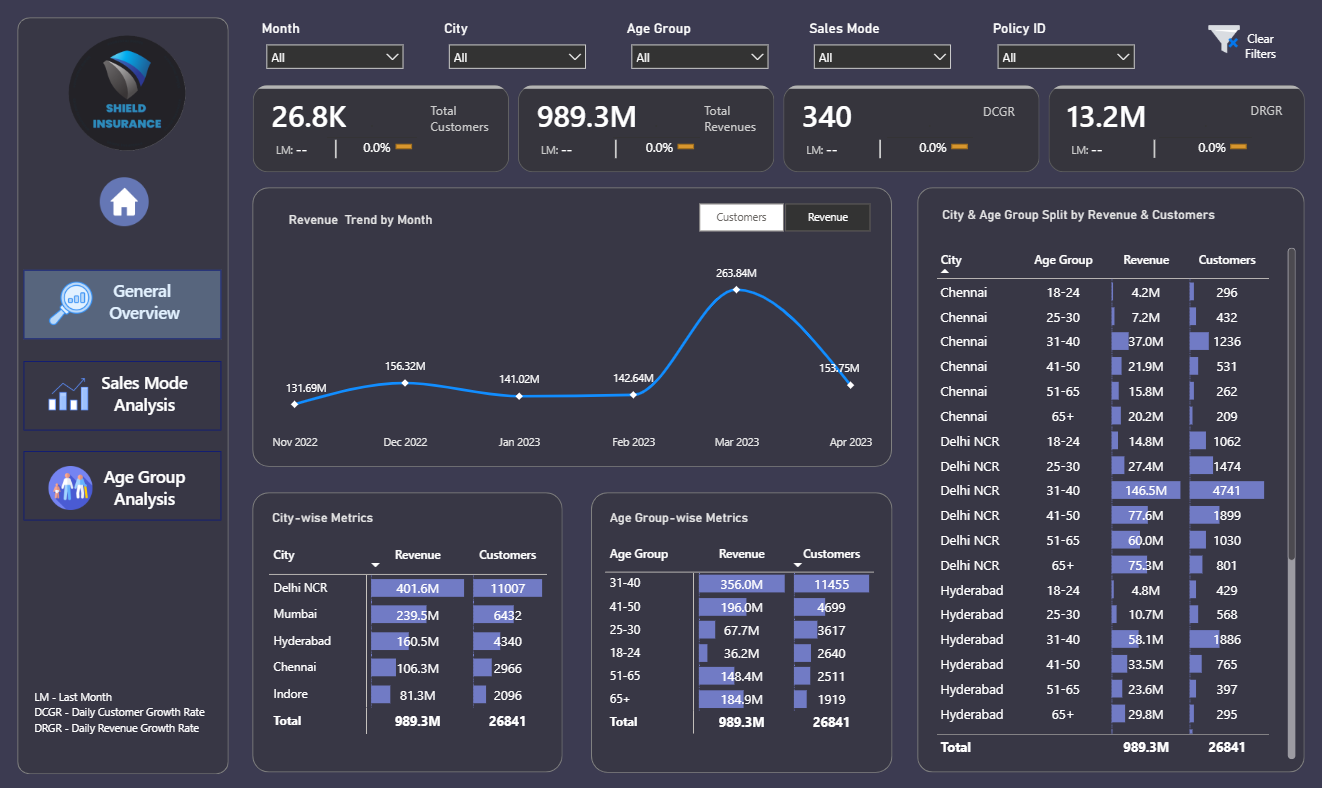

Layout of this report page (visuals, bound fields, positions):
{"tool":"powerbi","page":{"name":"Overview Analysis ","canvas":[1500,900],"ordinal":1},"visuals":[{"type":"shape","box":[24.6,24.6,238.5,853.8],"z":0},{"type":"cardVisual","fields":{"Data":["Key Measures.Total Customers","Key Measures.Total Revenue","Key Measures.Daily Customer Growth","Key Measures.Daily Revenue Growth"]},"box":[285.5,95.4,1200,108.9],"z":0,"group":"g1"},{"type":"shape","box":[289.2,215.4,721.5,315.4],"z":0,"group":"g2"},{"type":"shape","box":[1038.5,215.4,436.9,660],"z":0,"group":"g3"},{"type":"shape","box":[670.8,560,340,316.5],"z":0,"group":"g5"},{"type":"group","id":"g1","title":"Group 1","box":[285.5,95.4,1214.5,108.9],"z":1000,"group":"g6"},{"type":"textbox","box":[485.8,114,90,60],"z":1000,"group":"g1"},{"type":"group","id":"g2","title":"Group 2","box":[289.2,215.4,721.5,315.4],"z":1000},{"type":"lineChart","fields":{"Y":["Key Measures.Total Revenue"],"Category":["dim_date.date.Variation.Date Hierarchy.Year","dim_date.date.Variation.Date Hierarchy.Month"]},"box":[305.9,282.3,688.1,239.8],"z":1000,"group":"g2"},{"type":"shape","box":[289.2,560,350,316],"z":1000,"group":"g4"},{"type":"textbox","box":[794.9,114,90,60],"z":2000,"group":"g1"},{"type":"group","id":"g3","title":"Group 3","box":[1038.5,215.4,436.9,660],"z":2000},{"type":"pivotTable","fields":{"Rows":["dim_customer.city"],"Values":["Key Measures.Total Revenue","Key Measures.Total Customers"]},"box":[302.7,611.4,325,265],"z":2000,"group":"g4"},{"type":"pivotTable","fields":{"Rows":["dim_customer.Age Group"],"Values":["Key Measures.Total Revenue","Key Measures.Total Customers"]},"box":[682.7,611.5,315.7,265.4],"z":2000,"group":"g5"},{"type":"image","box":[60,34.1,174.4,149.9],"z":3000},{"type":"textbox","box":[1108.5,114.5,89.9,60],"z":3000,"group":"g1"},{"type":"textbox","box":[1410,114,90,60],"z":4000,"group":"g1"},{"type":"group","id":"g4","title":"Group 4","box":[289.2,560,350,316.4],"z":4000},{"type":"tableEx","fields":{"Values":["dim_customer.city","dim_customer.Age Group","Key Measures.Total Revenue","Key Measures.Total Customers"]},"box":[1053.6,279.1,416.1,586.8],"z":5000,"group":"g3"},{"type":"group","id":"g5","title":"Group 5","box":[670.8,560,340,316.9],"z":5000},{"type":"slicer","title":"Month","fields":{"Values":["dim_date.mmm_yy"]},"box":[294.3,27,175,60],"z":6000},{"type":"slicer","fields":{"Values":["Trend Parameter.Trend Parameter"]},"box":[767.7,227,243.1,45.1],"z":6000,"group":"g2"},{"type":"textbox","box":[312.3,573.4,279.6,44.1],"z":6000,"group":"g4"},{"type":"textbox","box":[692.2,574.1,264.8,42.2],"z":6000,"group":"g5"},{"type":"slicer","title":"Policy ID","fields":{"Values":["fact_premiums.policy_id"]},"box":[1118.7,27.3,174.4,60],"z":7000},{"type":"textbox","box":[1066.1,232.4,356.6,43.2],"z":7001,"group":"g3"},{"type":"card","fields":{"Values":["Key Measures.Dynamic Trend Title"]},"box":[296.7,233.5,235.3,39.2],"z":7001,"group":"g2"},{"type":"slicer","title":"City","fields":{"Values":["dim_customer.city"]},"box":[500.4,27,175,60],"z":8000},{"type":"slicer","title":"Age Group","fields":{"Values":["dim_customer.Age Group"]},"box":[706.5,27,175,60],"z":9000},{"type":"slicer","title":"Sales Mode","fields":{"Values":["fact_premiums.sales_mode"]},"box":[912.6,27,175,60],"z":10000},{"type":"actionButton","box":[1390.8,24.6,69.2,64.6],"z":11000},{"type":"group","id":"g6","title":"Group 6","box":[285.5,95.4,1214.5,108.9],"z":12000},{"type":"image","box":[1358.5,24.6,52.3,47.7],"z":13000},{"type":"tableEx","fields":{"Values":["Key Measures.Growth % TC"]},"box":[367.9,128,125,60],"z":13000,"group":"g6"},{"type":"shape","box":[333.8,161.8,101,21.1],"z":14000,"group":"g6"},{"type":"group","id":"g7","title":"Group 7","box":[58.8,314.7,188.7,279.6],"z":14000},{"type":"tableEx","fields":{"Values":["Key Measures.Growth % TR"]},"box":[689.5,128.1,125.4,60],"z":15000,"group":"g6"},{"type":"shape","box":[31.7,308.7,223.2,78.4],"z":15000},{"type":"textbox","box":[87.5,314.7,160,70],"z":15000,"group":"g7"},{"type":"tableEx","fields":{"Values":["Key Measures.Growth % DCG"]},"box":[998.9,128.1,124,60],"z":16000,"group":"g6"},{"type":"shape","box":[31.7,411.2,223.2,78.4],"z":16000},{"type":"textbox","box":[87.5,419.5,160,70],"z":16000,"group":"g7"},{"type":"tableEx","fields":{"Values":["Key Measures.Growth % DRG"]},"box":[1306.8,128.1,125.4,60],"z":17000,"group":"g6"},{"type":"shape","box":[31.7,513.8,223.2,78.4],"z":17000},{"type":"textbox","box":[87.5,524.3,160,70],"z":17000,"group":"g7"},{"type":"shape","box":[648.9,161.8,101,21.1],"z":18000,"group":"g6"},{"type":"image","box":[58.8,322.2,50,50],"z":18000,"group":"g7"},{"type":"textbox","box":[37.7,775.1,218.7,73.9],"z":18000},{"type":"shape","box":[947.5,161.8,99.5,21.1],"z":19000,"group":"g6"},{"type":"image","box":[117.6,205,55,55],"z":19000},{"type":"image","box":[58.8,530.4,49.8,49.8],"z":19000,"group":"g7"},{"type":"shape","box":[1256.4,162.1,100.8,20.4],"z":20000,"group":"g6"},{"type":"image","box":[58.8,424.8,45,50],"z":20000,"group":"g7"}]}

Visuals, with their boxes in screenshot pixels (x1, y1, x2, y2), scaled from the page's 1500x900 canvas onto the 1322x788 screenshot:
shape: box(22, 22, 232, 769)
cardVisual - Key Measures.Total Customers x Key Measures.Total Revenue: box(252, 84, 1309, 179)
shape: box(255, 189, 891, 465)
shape: box(915, 189, 1300, 766)
shape: box(591, 490, 891, 767)
"Group 1" group: box(252, 84, 1321, 179)
textbox: box(428, 100, 507, 152)
"Group 2" group: box(255, 189, 891, 465)
lineChart - Key Measures.Total Revenue x dim_date.date.Variation.Date Hierarchy.Year: box(270, 247, 876, 457)
shape: box(255, 490, 563, 767)
textbox: box(701, 100, 780, 152)
"Group 3" group: box(915, 189, 1300, 766)
pivotTable - dim_customer.city x Key Measures.Total Revenue: box(267, 535, 553, 767)
pivotTable - dim_customer.Age Group x Key Measures.Total Revenue: box(602, 535, 880, 768)
image: box(53, 30, 207, 161)
textbox: box(977, 100, 1056, 153)
textbox: box(1243, 100, 1321, 152)
"Group 4" group: box(255, 490, 563, 767)
tableEx - dim_customer.city x dim_customer.Age Group: box(929, 244, 1295, 758)
"Group 5" group: box(591, 490, 891, 768)
"Month" slicer: box(259, 24, 414, 76)
slicer - Trend Parameter.Trend Parameter: box(677, 199, 891, 238)
textbox: box(275, 502, 522, 541)
textbox: box(610, 503, 843, 540)
"Policy ID" slicer: box(986, 24, 1140, 76)
textbox: box(940, 203, 1254, 241)
card - Key Measures.Dynamic Trend Title: box(261, 204, 469, 239)
"City" slicer: box(441, 24, 595, 76)
"Age Group" slicer: box(623, 24, 777, 76)
"Sales Mode" slicer: box(804, 24, 959, 76)
actionButton: box(1226, 22, 1287, 78)
"Group 6" group: box(252, 84, 1321, 179)
image: box(1197, 22, 1243, 63)
tableEx - Key Measures.Growth % TC: box(324, 112, 434, 165)
shape: box(294, 142, 383, 160)
"Group 7" group: box(52, 276, 218, 520)
tableEx - Key Measures.Growth % TR: box(608, 112, 718, 165)
shape: box(28, 270, 225, 339)
textbox: box(77, 276, 218, 337)
tableEx - Key Measures.Growth % DCG: box(880, 112, 990, 165)
shape: box(28, 360, 225, 429)
textbox: box(77, 367, 218, 429)
tableEx - Key Measures.Growth % DRG: box(1152, 112, 1262, 165)
shape: box(28, 450, 225, 519)
textbox: box(77, 459, 218, 520)
shape: box(572, 142, 661, 160)
image: box(52, 282, 96, 326)
textbox: box(33, 679, 226, 743)
shape: box(835, 142, 923, 160)
image: box(104, 179, 152, 228)
image: box(52, 464, 96, 508)
shape: box(1107, 142, 1196, 160)
image: box(52, 372, 91, 416)
